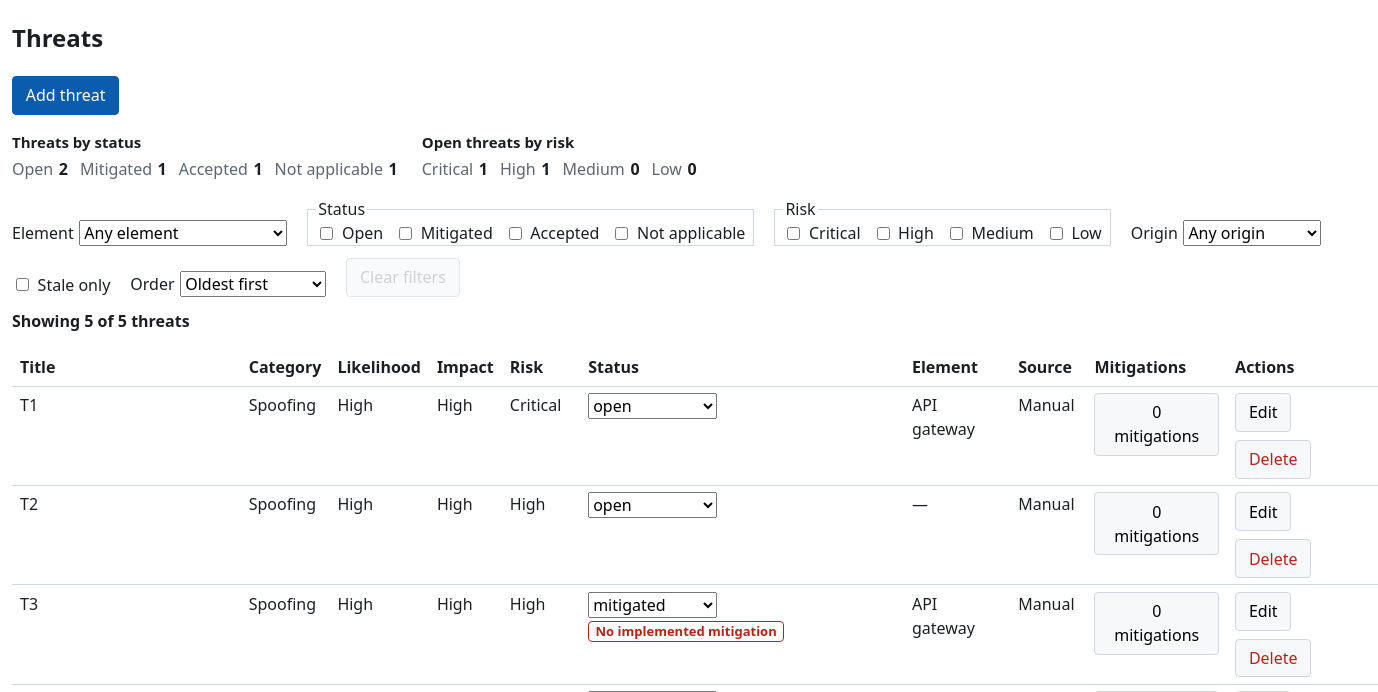
Test: the count line and the filters in the address (FR-019) › filters by origin, by stale only, and by no element
Check: the text "T1" is shown, box [12,386,241,486]
Select "Rule-generated" in the dropdown labelled "Origin": (1252, 233) [1183,220,1321,246]
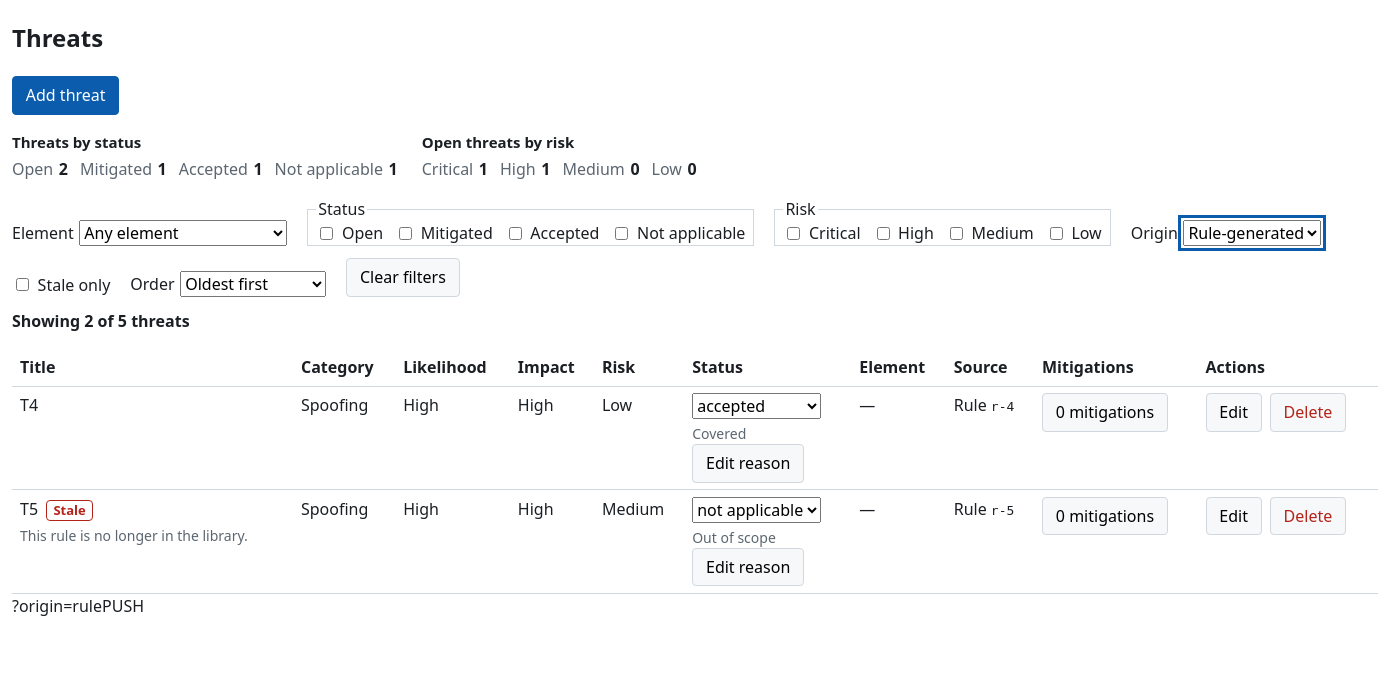
Click the checkbox labelled "Stale only": (22, 285) [16,278,29,291]
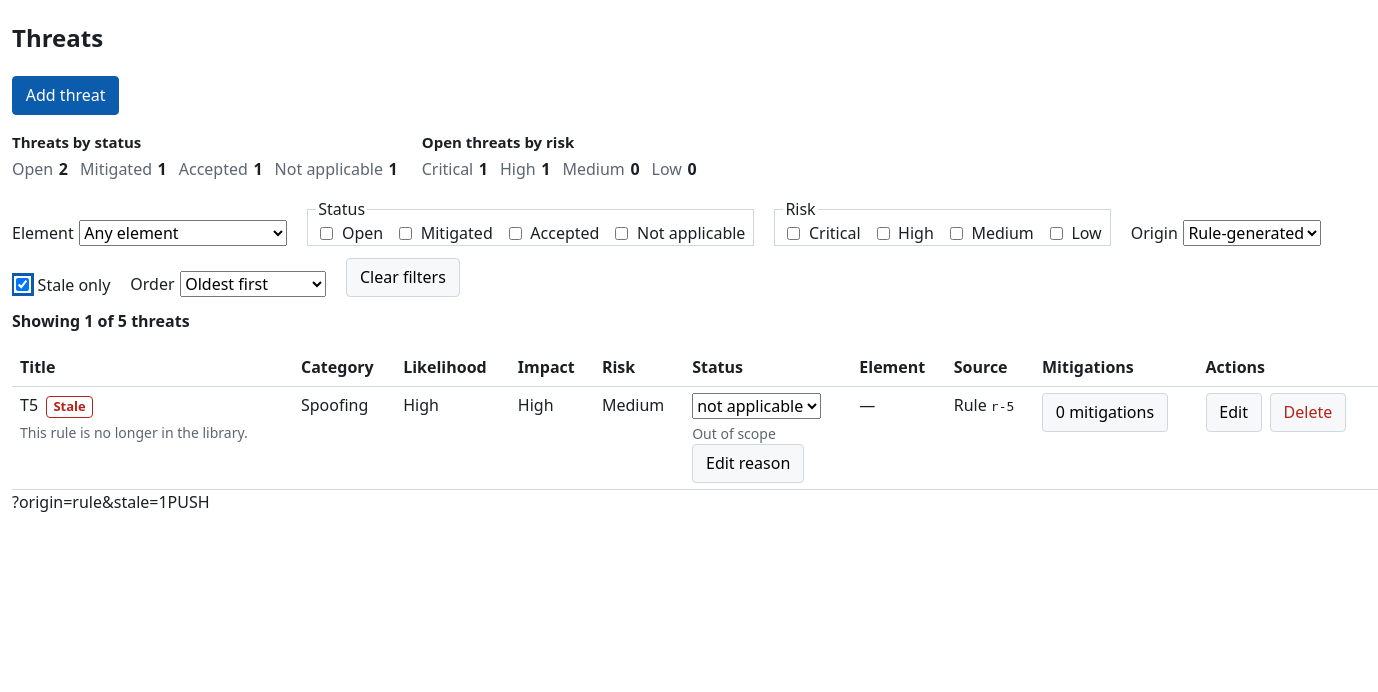
Check: the text with test id "search" reads "?origin=rule&stale=1", box [12,491,168,513]
Click the button "Clear filters": (403, 278) [346,258,460,297]
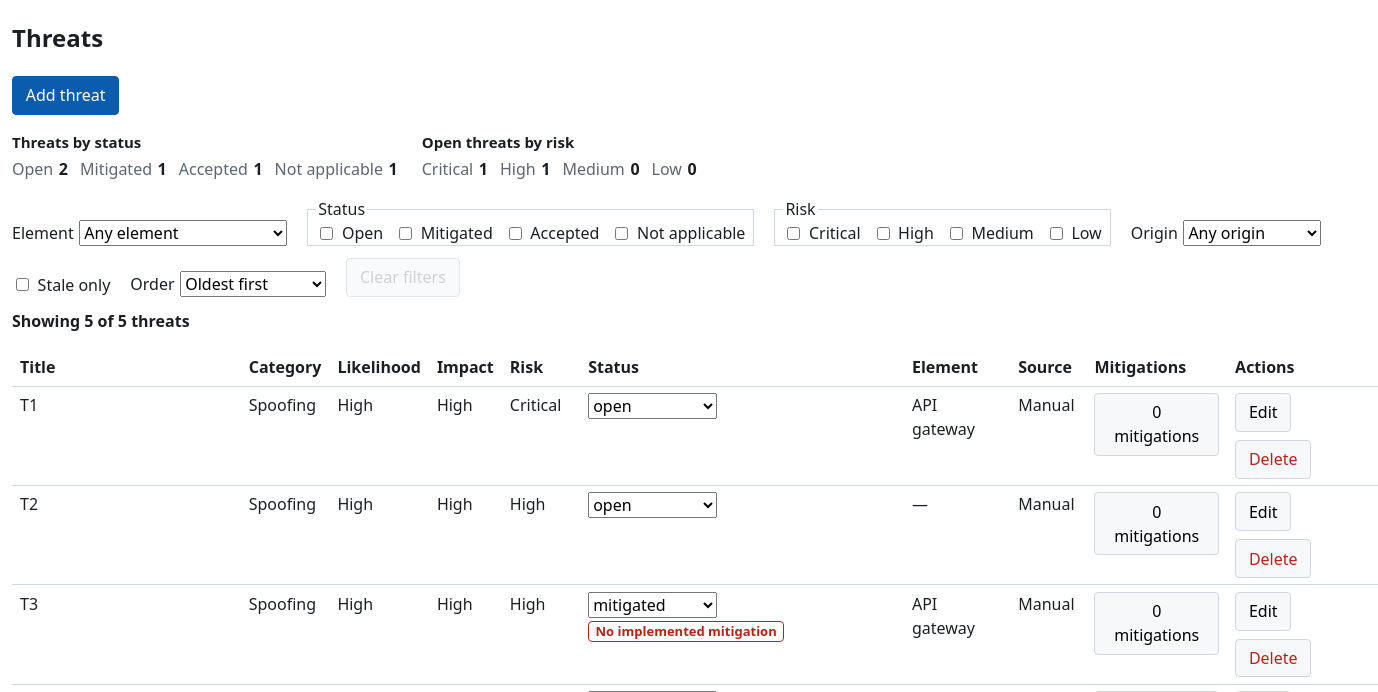
Select "Not linked to an element" in the dropdown labelled "Element": (183, 233) [79,220,287,246]
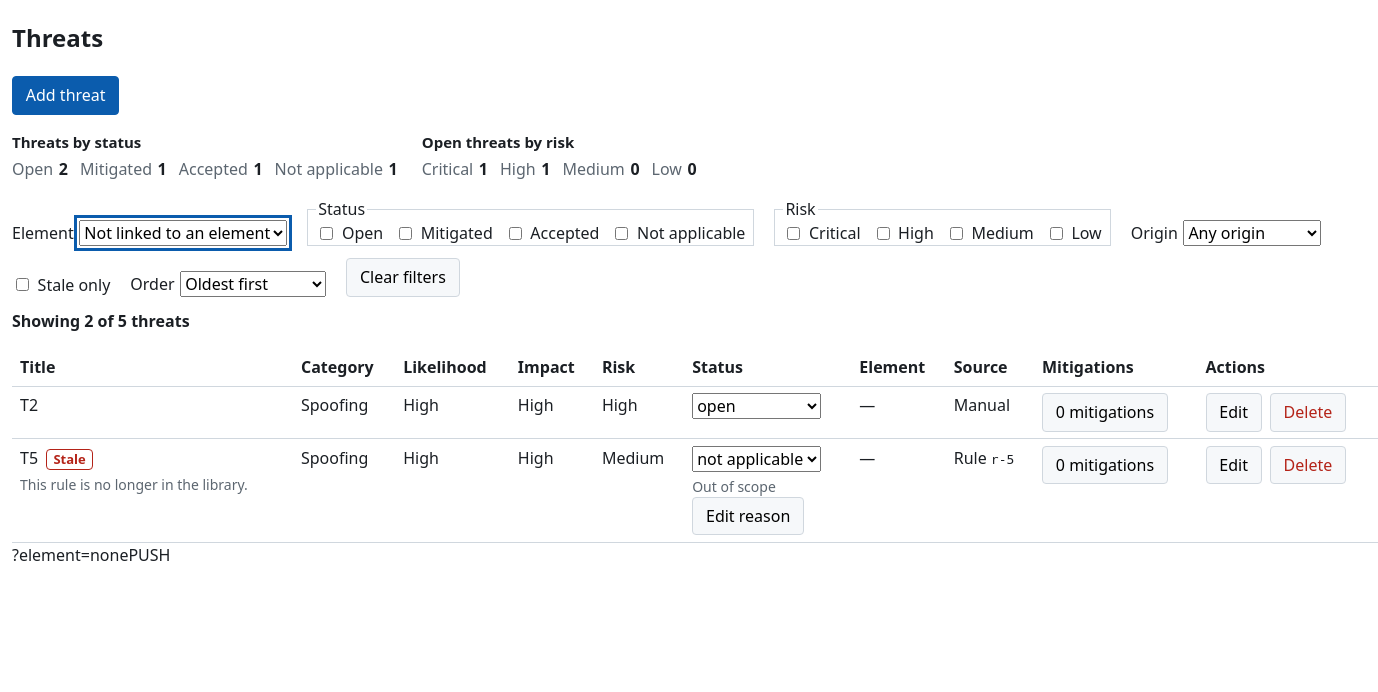
Check: the text with test id "search" reads "?element=none", box [12,544,128,566]
